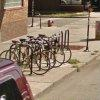Bicycle: (4, 25, 75, 74)
